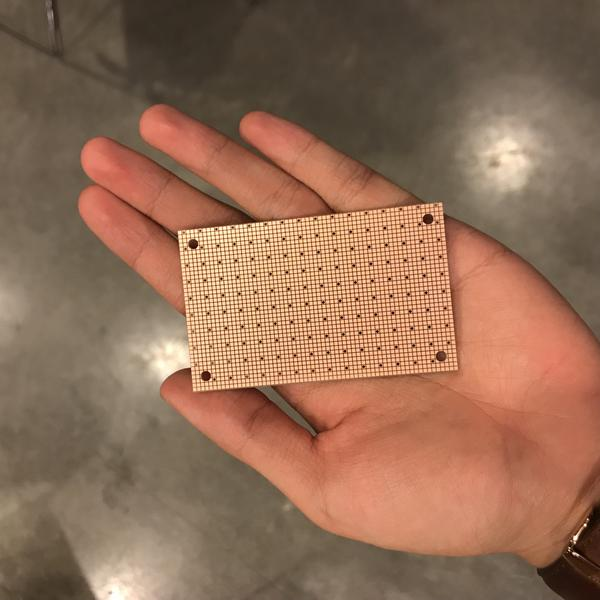board: (174, 198, 462, 397)
